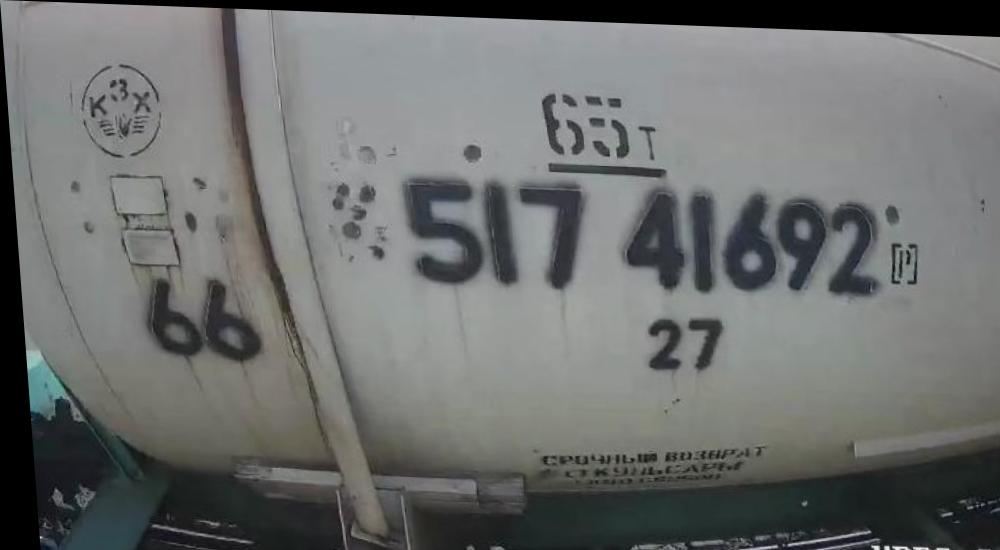Wagon-number: (395, 168, 881, 300)
